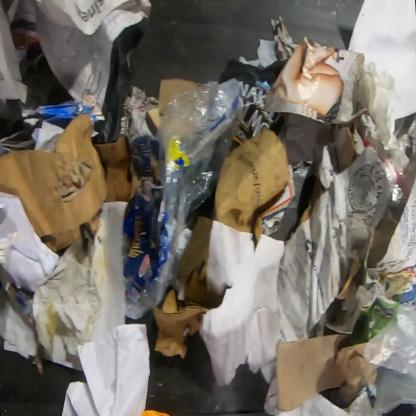cardboard: (0, 111, 111, 257), (151, 216, 224, 359), (214, 125, 290, 245), (123, 134, 175, 308), (276, 333, 378, 412), (20, 99, 98, 150), (92, 131, 131, 204), (262, 162, 296, 236), (158, 78, 201, 116), (332, 122, 356, 174)
soft_plastic: (126, 78, 251, 319), (218, 59, 292, 154), (360, 303, 415, 415), (379, 159, 406, 203), (121, 231, 133, 277), (407, 119, 415, 159)
